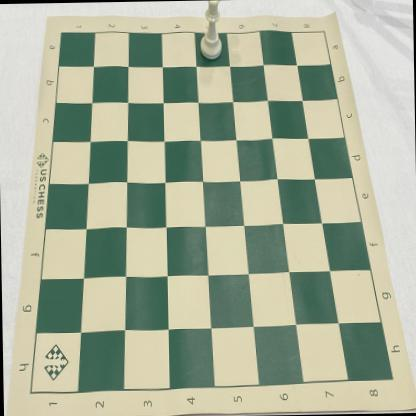queen: (198, 0, 223, 61)
